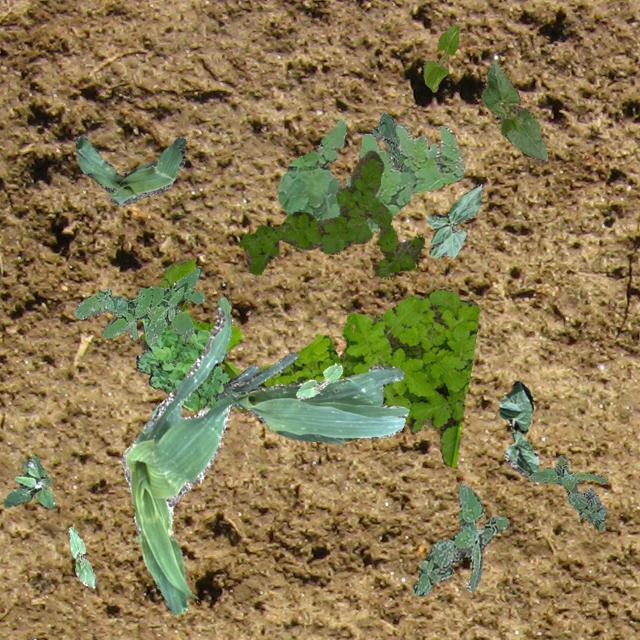crop: (120, 292, 232, 614), (216, 350, 408, 442), (74, 134, 186, 204), (481, 60, 546, 160), (426, 182, 482, 258), (498, 380, 538, 478), (422, 24, 458, 90), (294, 362, 342, 398), (68, 526, 94, 586)
weed: (138, 256, 478, 466), (236, 150, 424, 276), (276, 117, 464, 230), (411, 482, 508, 594), (74, 266, 204, 344), (136, 316, 228, 409), (528, 454, 606, 530), (2, 453, 54, 508), (370, 112, 404, 170)
